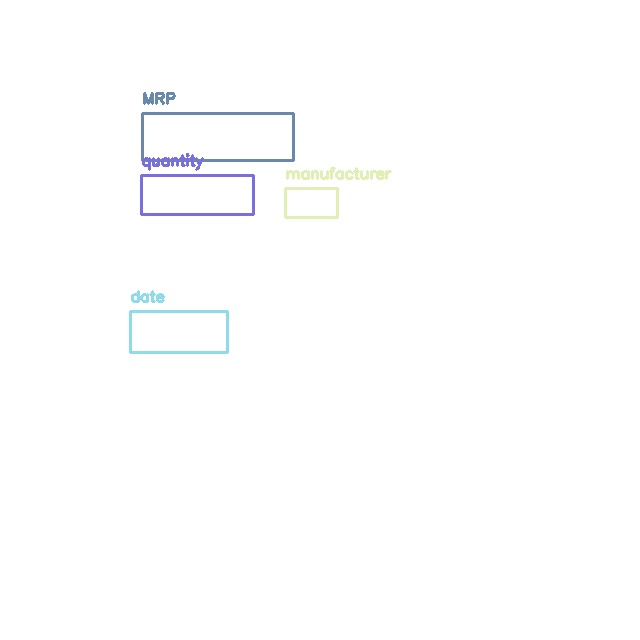MRP: (142, 113, 293, 160)
date: (130, 311, 227, 352)
manufacturer: (285, 188, 337, 217)
quantity: (141, 175, 253, 214)
